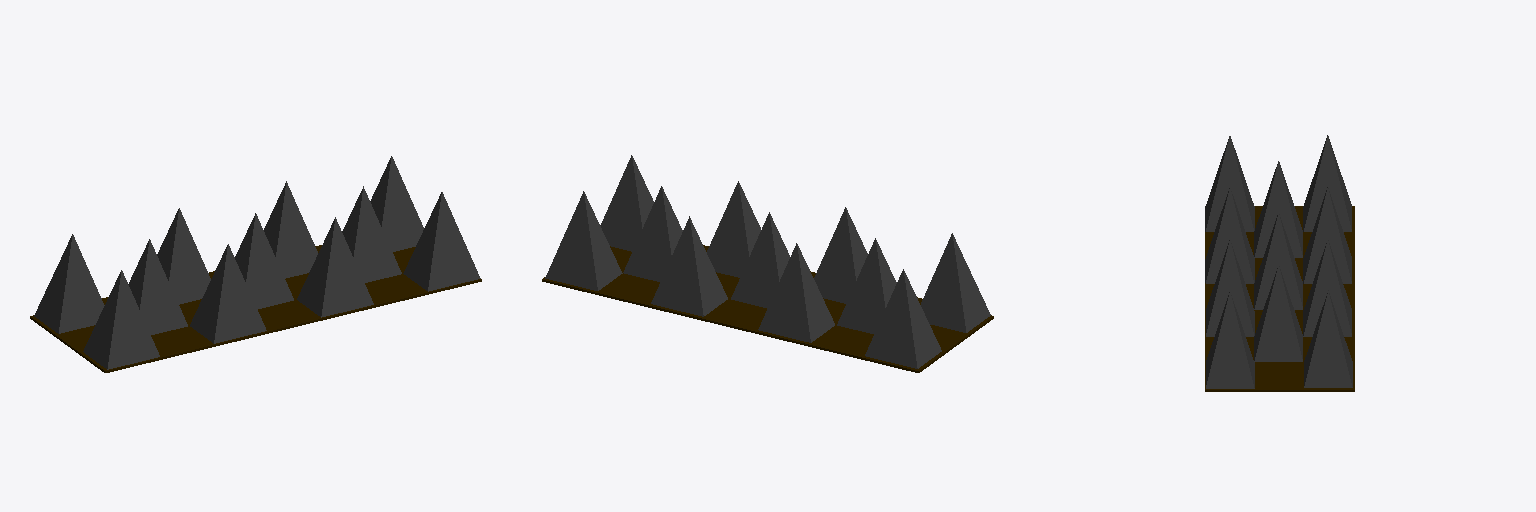
The model's file is Spikes3.obj.
The picture shows the model from 3 angles: view 1: azimuth 30°, elevation 25°; view 2: azimuth 150°, elevation 25°; view 3: azimuth 270°, elevation 25°; orthographic projection.
Visible parts, largest first — view 1: Box001, Pyramid005, Pyramid014, Pyramid036, Pyramid024, Pyramid022, Pyramid003, Pyramid007, Pyramid025, Pyramid016, Pyramid034, Pyramid006; view 2: Box001, Pyramid006, Pyramid022, Pyramid003, Pyramid034, Pyramid024, Pyramid005, Pyramid025, Pyramid007, Pyramid016, Pyramid036, Pyramid014; view 3: Box001, Pyramid014, Pyramid006, Pyramid007, Pyramid036, Pyramid016, Pyramid024, Pyramid034, Pyramid005, Pyramid022, Pyramid025, Pyramid003.
Part boxes in pixels (left/top/right/bottom): Box001: left=30, top=245, right=481, bottom=372; Pyramid005: left=297, top=217, right=373, bottom=317; Pyramid014: left=403, top=192, right=480, bottom=291; Pyramid036: left=190, top=244, right=266, bottom=343; Pyramid024: left=83, top=270, right=159, bottom=369; Pyramid022: left=34, top=234, right=104, bottom=333; Pyramid003: left=264, top=181, right=317, bottom=278; Pyramid007: left=342, top=186, right=401, bottom=282; Pyramid025: left=128, top=239, right=187, bottom=334; Pyramid016: left=235, top=213, right=293, bottom=308; Pyramid034: left=157, top=208, right=210, bottom=304; Pyramid006: left=370, top=156, right=423, bottom=251; Box001: left=542, top=245, right=993, bottom=372; Pyramid006: left=545, top=191, right=622, bottom=290; Pyramid022: left=865, top=269, right=941, bottom=368; Pyramid003: left=651, top=216, right=727, bottom=316; Pyramid034: left=758, top=243, right=834, bottom=342; Pyramid024: left=921, top=233, right=990, bottom=332; Pyramid005: left=707, top=181, right=760, bottom=277; Pyramid025: left=837, top=238, right=896, bottom=333; Pyramid007: left=623, top=186, right=682, bottom=281; Pyramid016: left=731, top=212, right=789, bottom=308; Pyramid036: left=814, top=207, right=867, bottom=303; Pyramid014: left=600, top=155, right=653, bottom=251; Box001: left=1205, top=206, right=1354, bottom=391; Pyramid014: left=1206, top=292, right=1254, bottom=388; Pyramid006: left=1304, top=290, right=1352, bottom=387; Pyramid007: left=1254, top=265, right=1302, bottom=361; Pyramid036: left=1205, top=188, right=1254, bottom=283; Pyramid016: left=1254, top=213, right=1302, bottom=309; Pyramid024: left=1205, top=136, right=1254, bottom=231; Pyramid034: left=1303, top=187, right=1351, bottom=283; Pyramid005: left=1206, top=240, right=1254, bottom=336; Pyramid022: left=1303, top=135, right=1351, bottom=231; Pyramid025: left=1254, top=161, right=1302, bottom=257; Pyramid003: left=1303, top=240, right=1351, bottom=336.
Size of the model in its own units: 4.95 by 1.1 by 1.72.